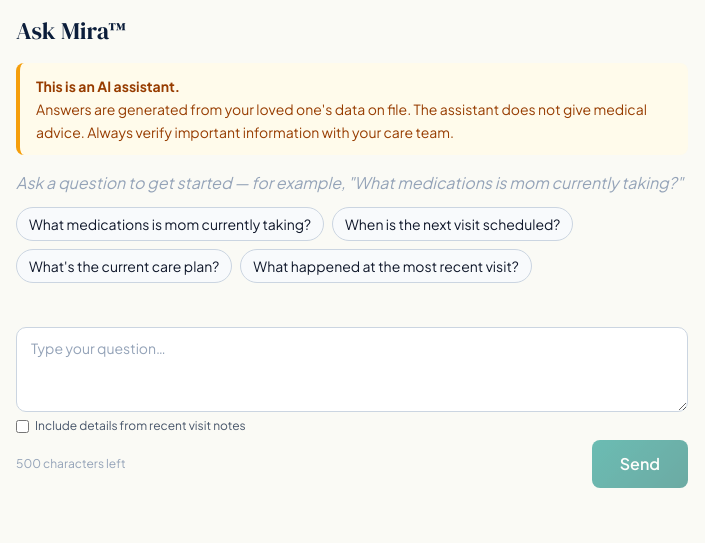
FamilyChat (streaming) › clear-conversation empties the log after confirm
The width and height of the screenshot is (705, 543).
In the text box with test id "family-chat-input": (352,370) [16,327,688,412], type "q?"
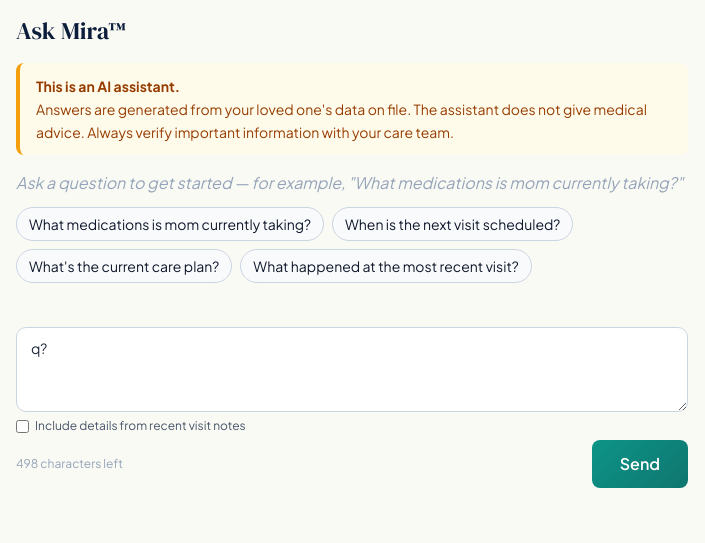
Click the button with test id "family-chat-submit": (640,464) [592,440,688,488]
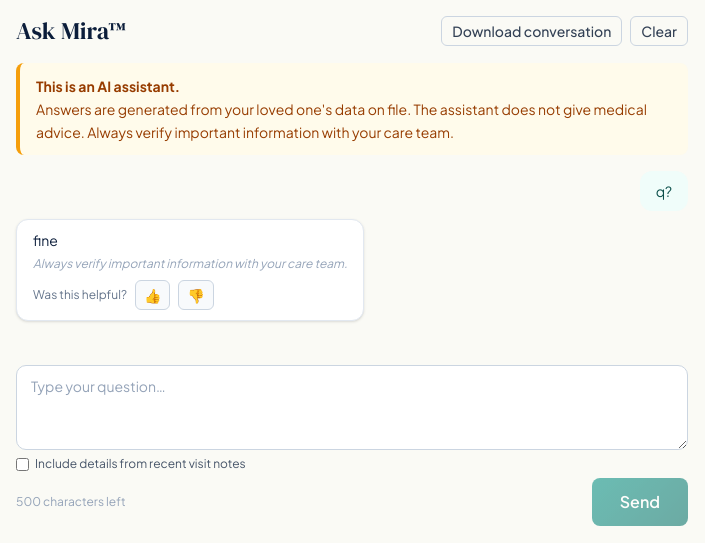
Check: the button with test id "clear-conversation" is shown
Click the button with test id "clear-conversation": (659,31) [630,16,688,46]
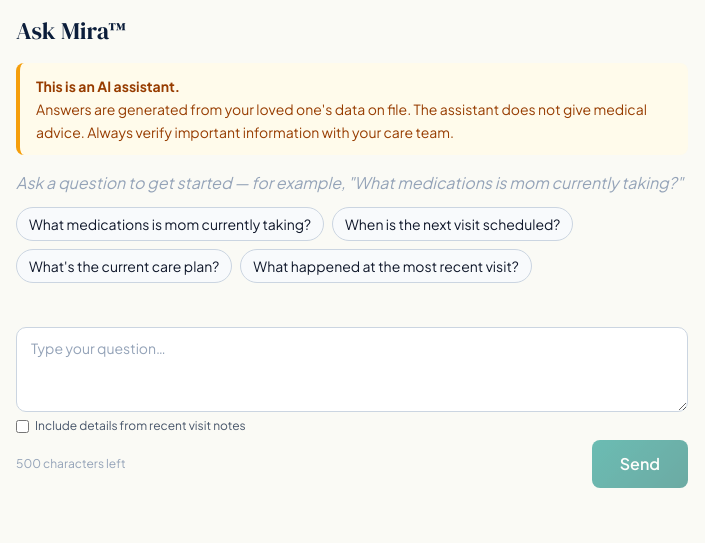
Check: the element with test id "chat-turn" is gone
Check: the button with test id "clear-conversation" is gone
Check: the element with test id "suggested-prompts" is shown, box [16,207,573,283]
